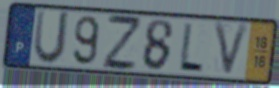8: (142, 18, 176, 72)
9: (72, 14, 101, 67)
L: (176, 21, 205, 75)
U: (31, 7, 73, 67)
V: (211, 20, 253, 81)
Z: (101, 12, 142, 72)
